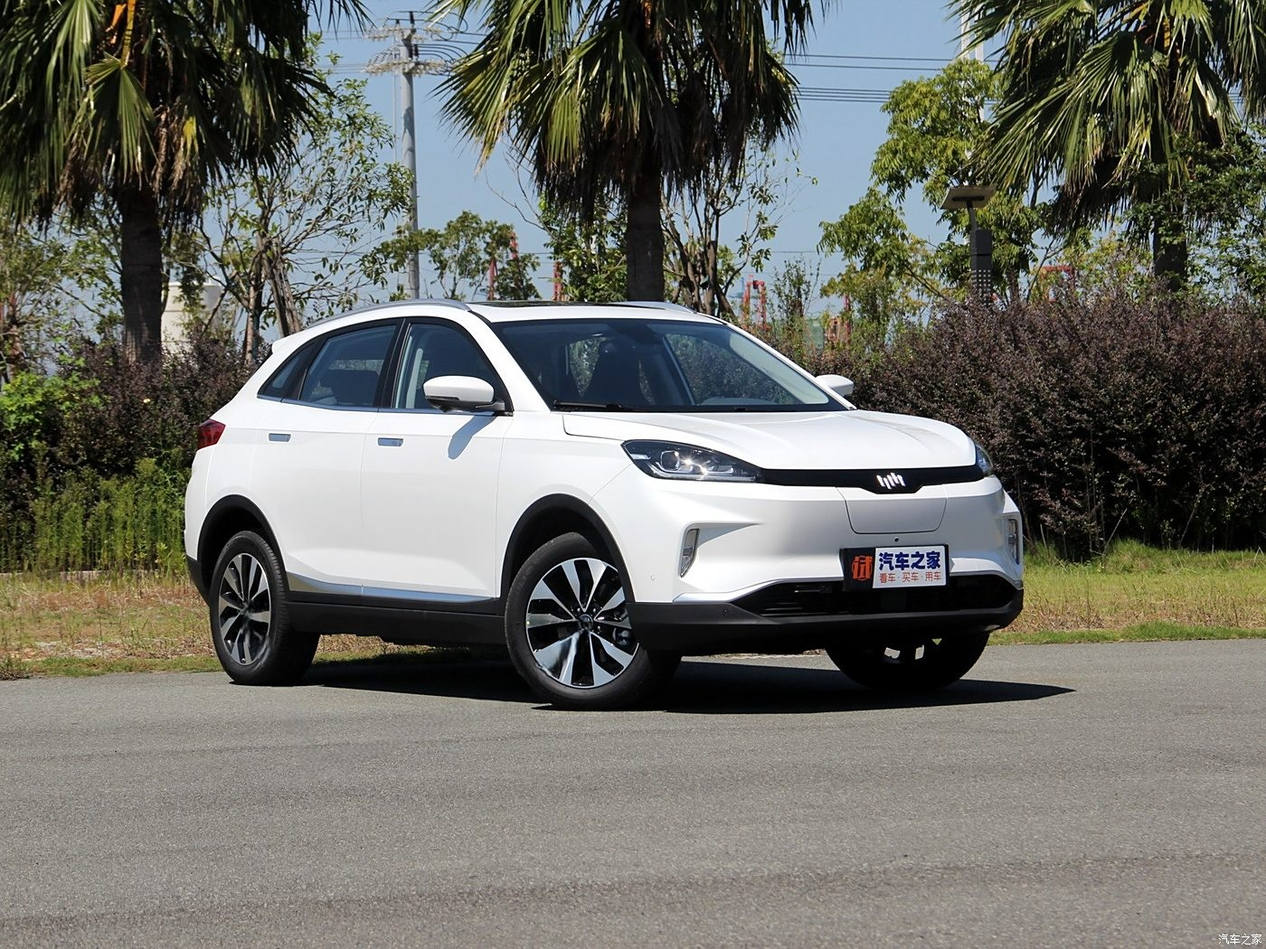WELTMEISTER: (877, 473, 905, 489)
